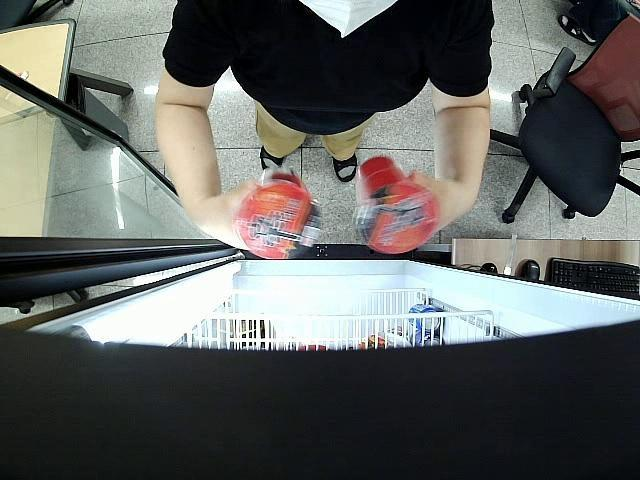02_shinRamen_S: (355, 154, 438, 253), (236, 166, 324, 259)
